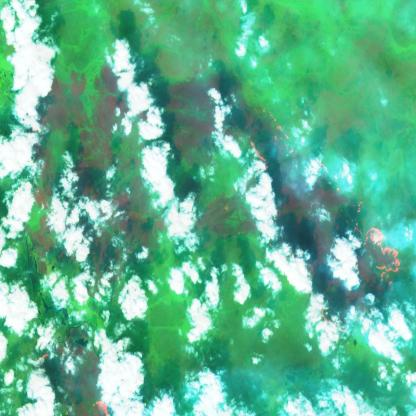fire: (351, 218, 403, 288), (74, 394, 122, 416)
